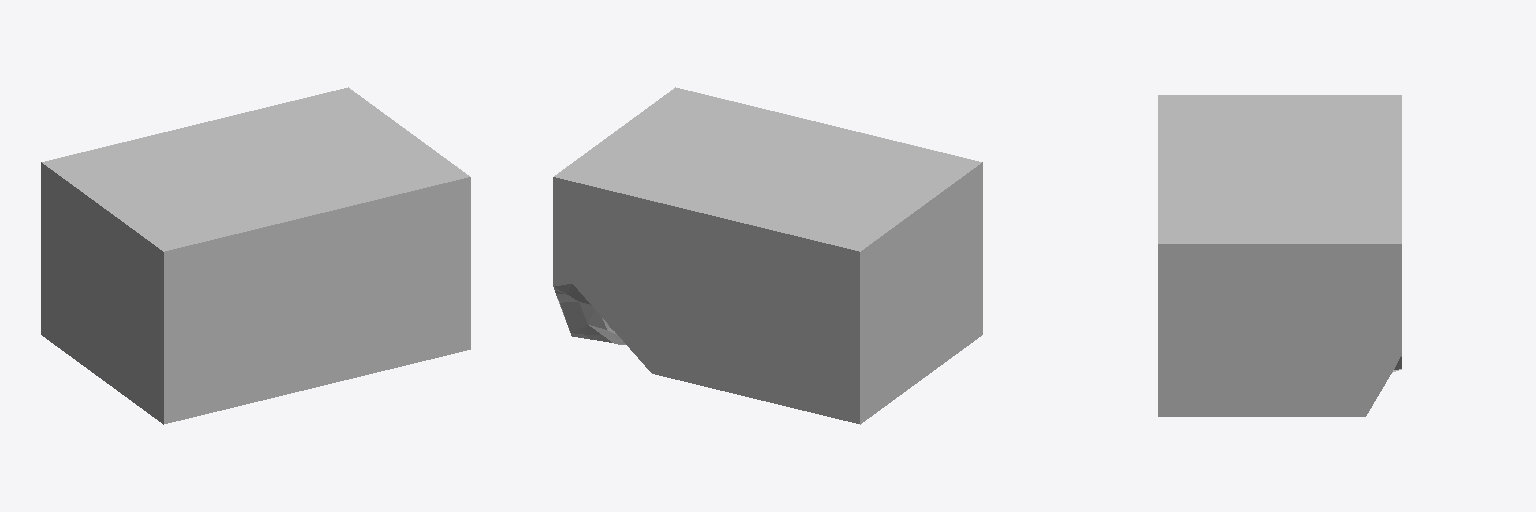
Rendered from sideblock_normal2.obj.
The picture shows the model from 3 angles: view 1: azimuth 30°, elevation 25°; view 2: azimuth 150°, elevation 25°; view 3: azimuth 270°, elevation 25°; orthographic projection.
Parts seen in each view (by area): view 1: sideblock_normal2; view 2: sideblock_normal2; view 3: sideblock_normal2.
Boxes of the visible parts, x1=… form: sideblock_normal2: x1=41, y1=87, x2=470, y2=424; sideblock_normal2: x1=553, y1=87, x2=982, y2=424; sideblock_normal2: x1=1158, y1=95, x2=1401, y2=416.
Size of the model in its own units: 0.435 by 0.234 by 0.3.